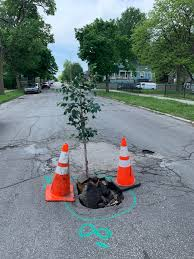pothole: (132, 144, 181, 191), (1, 139, 55, 172), (77, 175, 122, 210), (71, 141, 118, 172)
